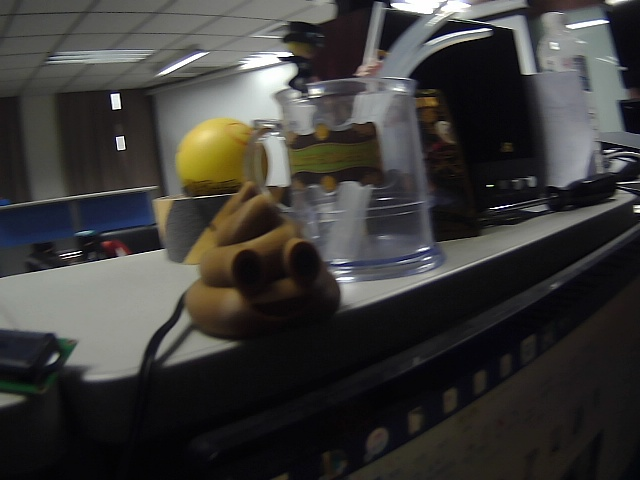shit: (177, 176, 353, 345)
